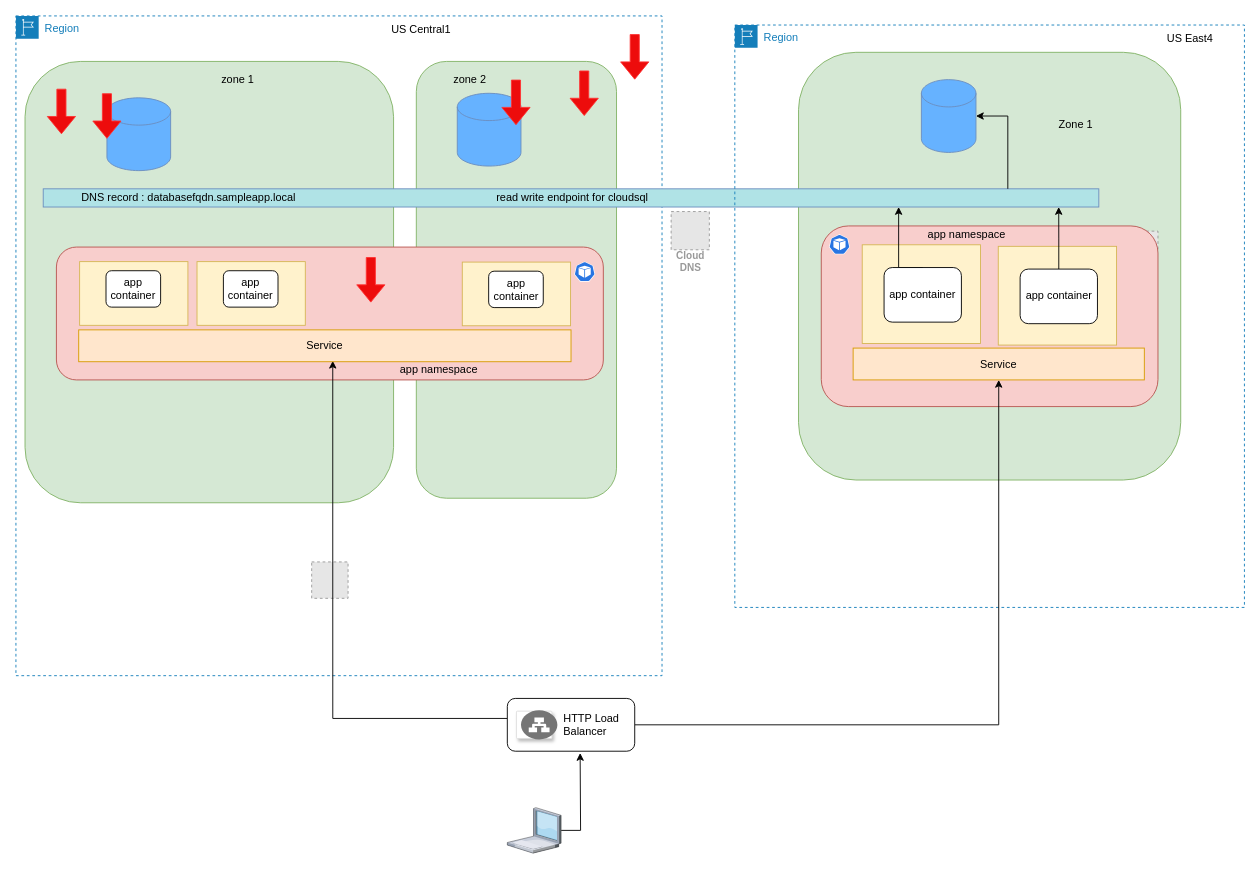
The diagram is 1260 pixels wide and 869 high, and some of its shapes have lost their labels. Grey dashed boxes stand in for pictures. Here are the shapes that lost their labels. From the top down, the centre of each, then its label:
(x=138, y=134): cloudsql primary
(x=488, y=129): cloudsql
(x=948, y=115): new Primary
